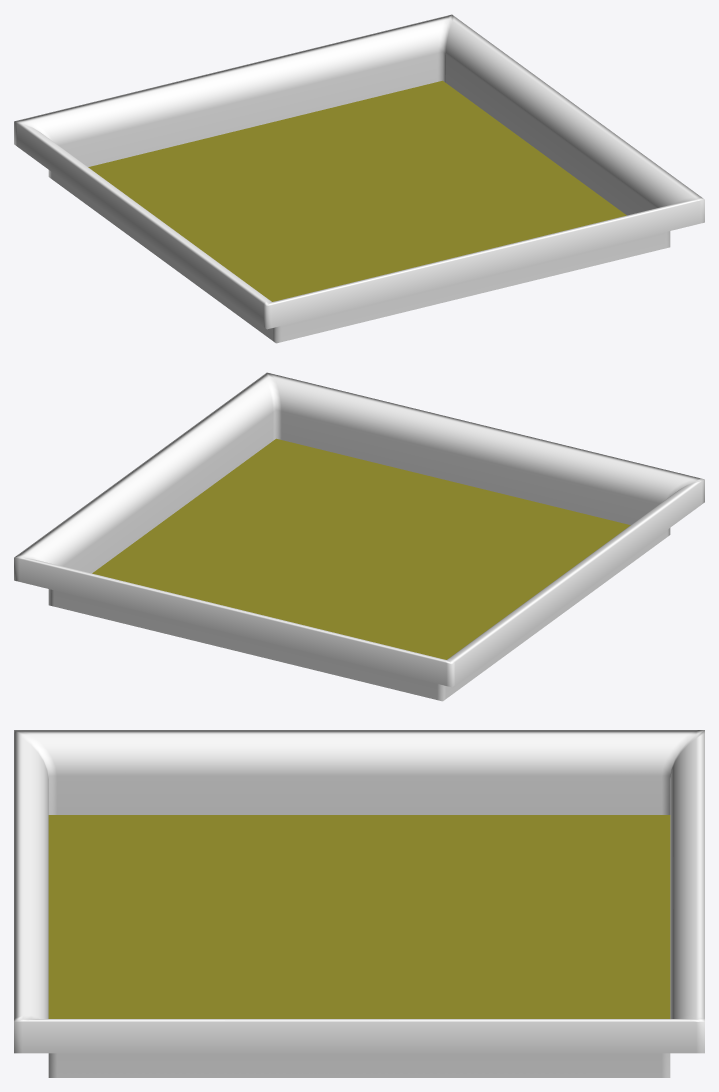
The model's file is SM_FloorPool4m.fbx.
3 renders of one model, top to bottom at view 1: azimuth 30°, elevation 25°; view 2: azimuth 150°, elevation 25°; view 3: azimuth 270°, elevation 25°, orthographic. The views are drawn at different scales.
Parts seen in each view (by area): view 1: SM_FloorPool4m; view 2: SM_FloorPool4m; view 3: SM_FloorPool4m.
Boxes of the visible parts, <box> form: SM_FloorPool4m: <box>14,14,704,343</box>; SM_FloorPool4m: <box>14,372,704,701</box>; SM_FloorPool4m: <box>14,730,704,1077</box>.
Size of the model in its own units: 400 by 45 by 400.
